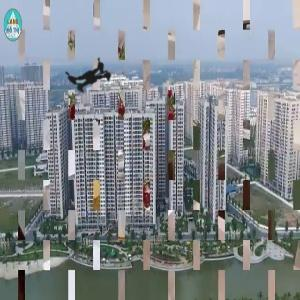drone: (30, 15, 155, 140)
